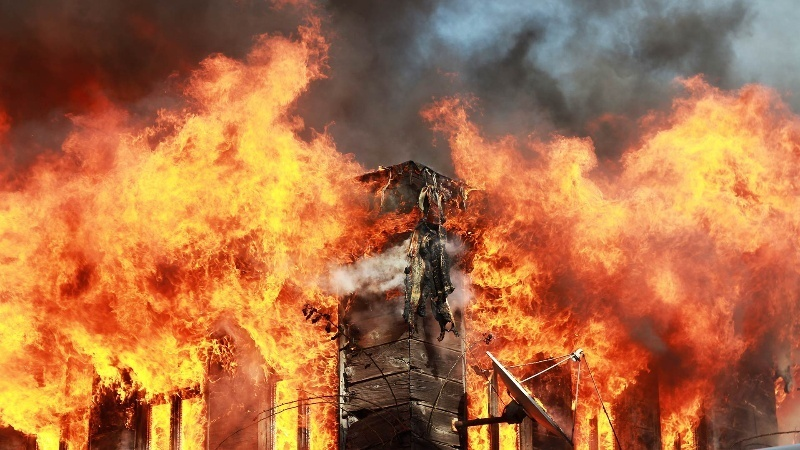fire: (0, 19, 707, 450), (0, 29, 364, 444)
